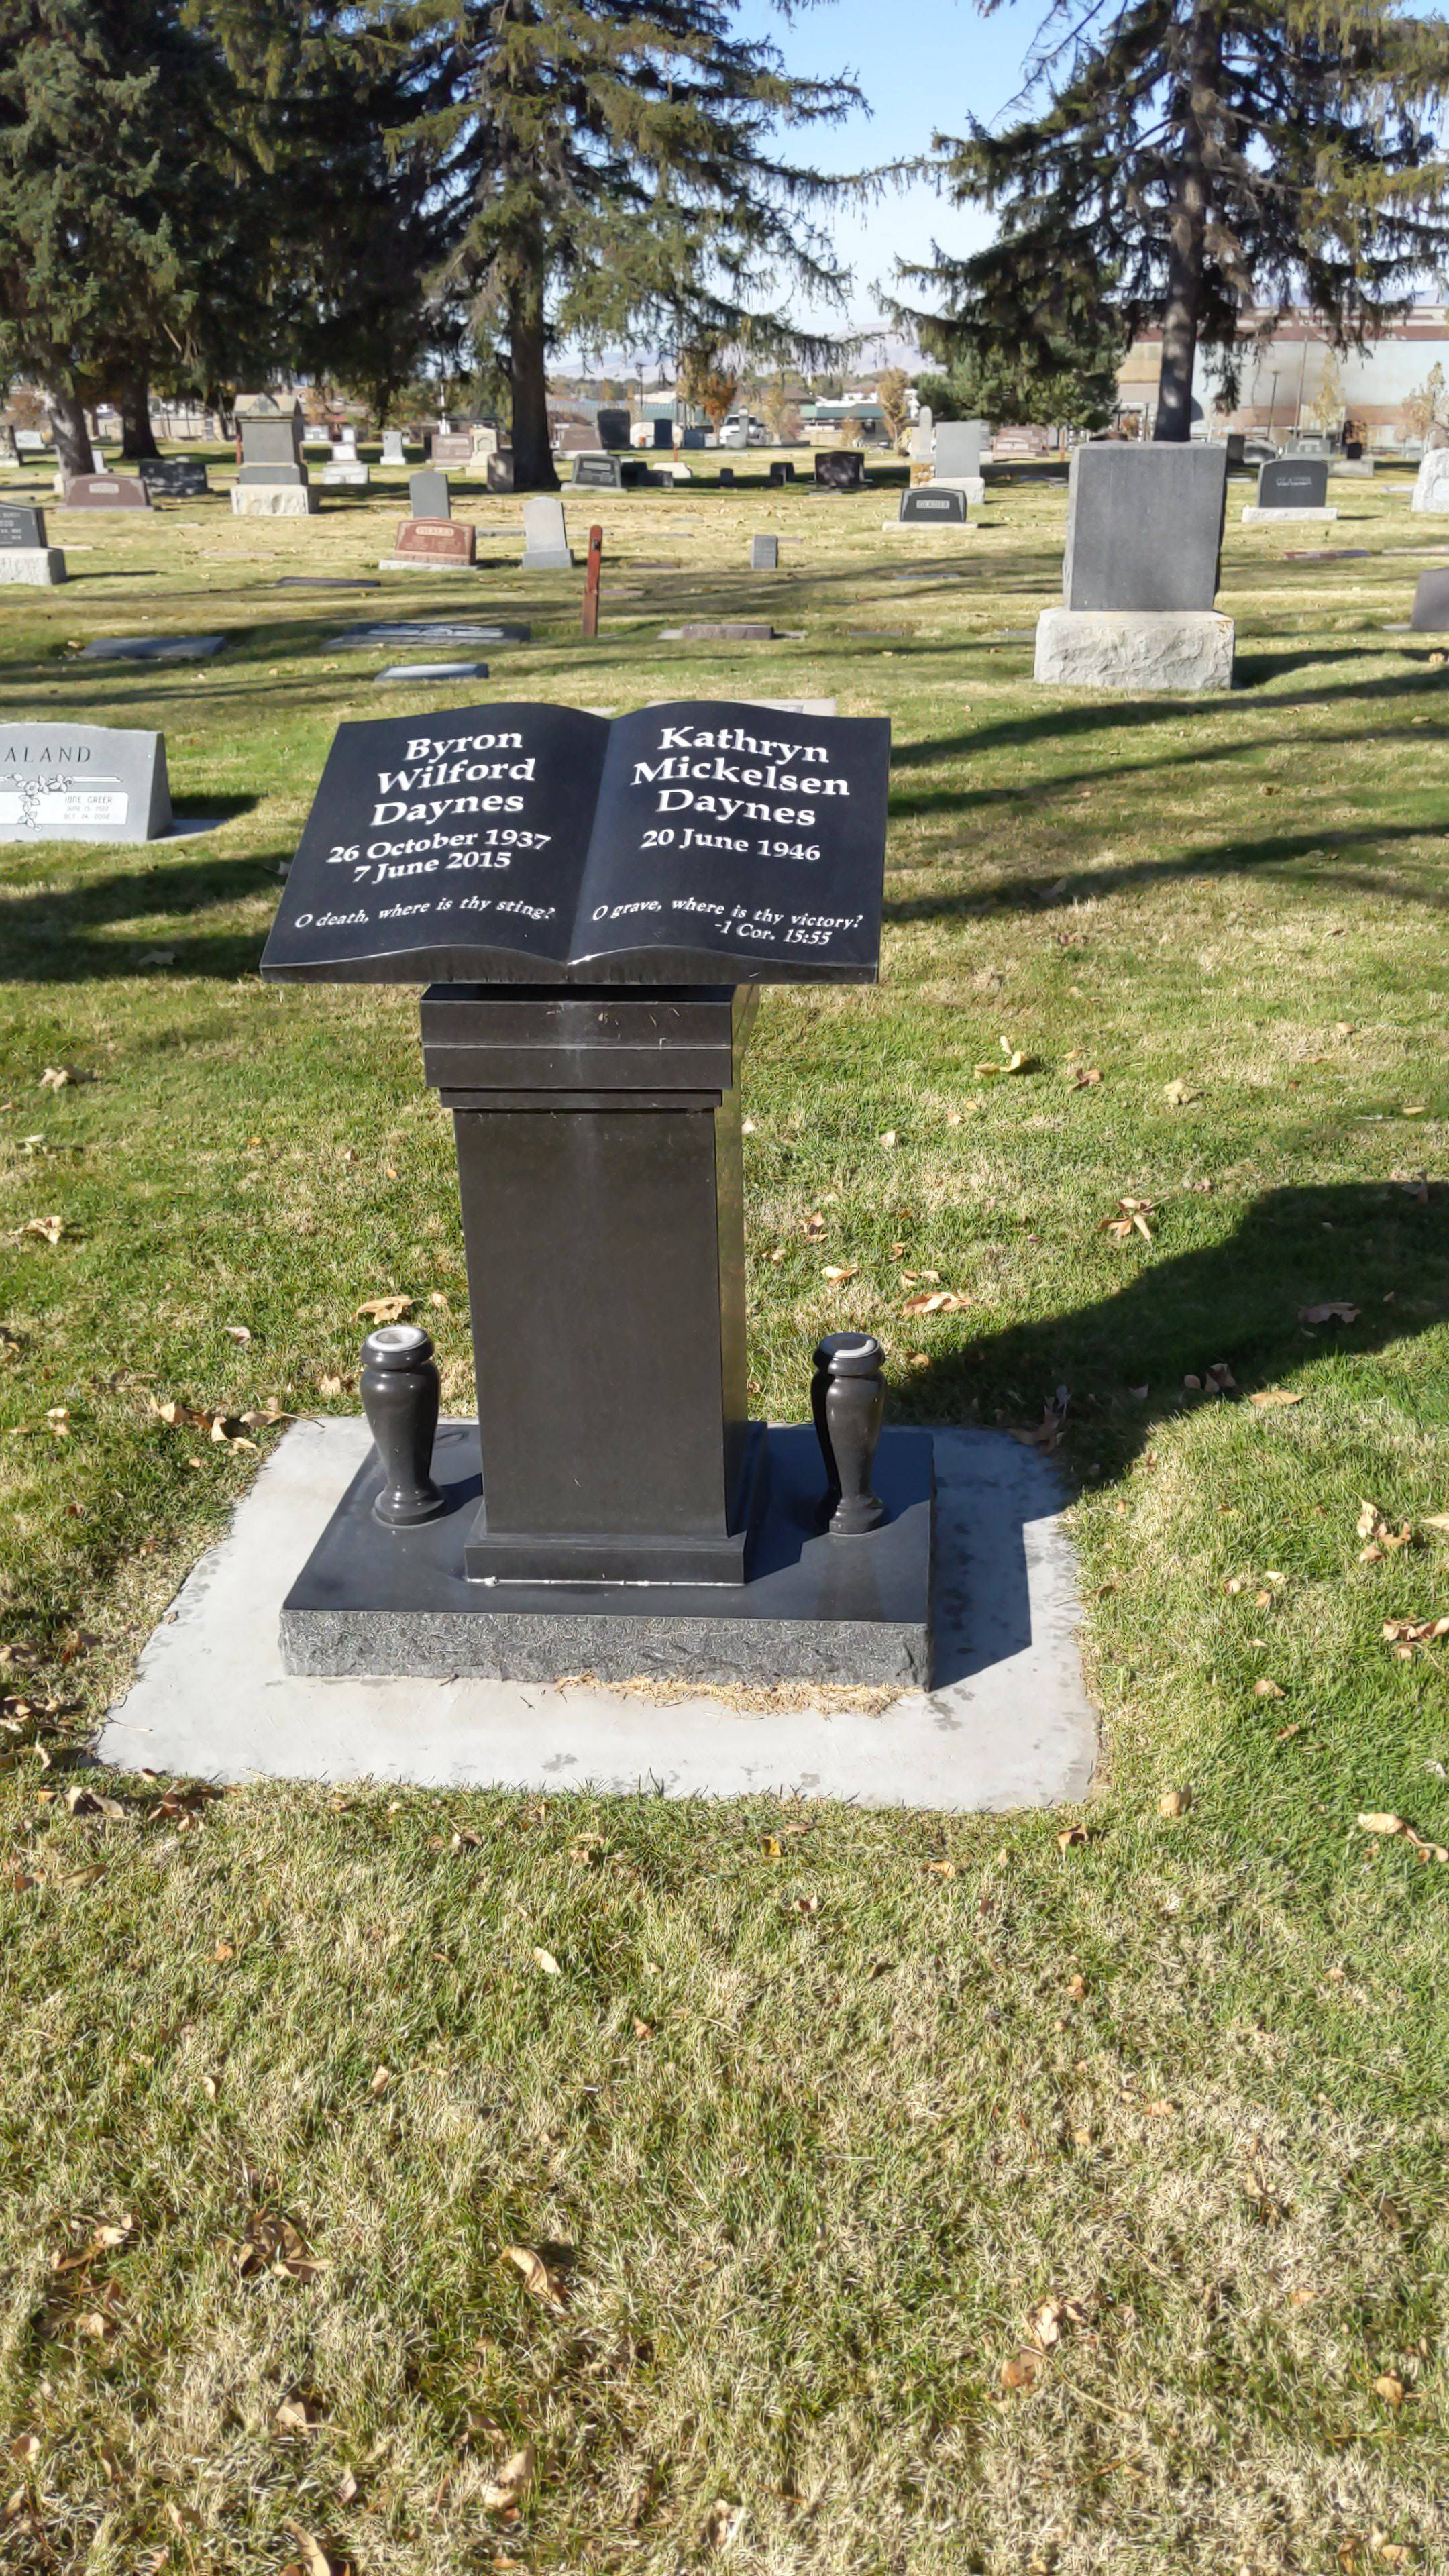statue: (278, 704, 945, 1700)
